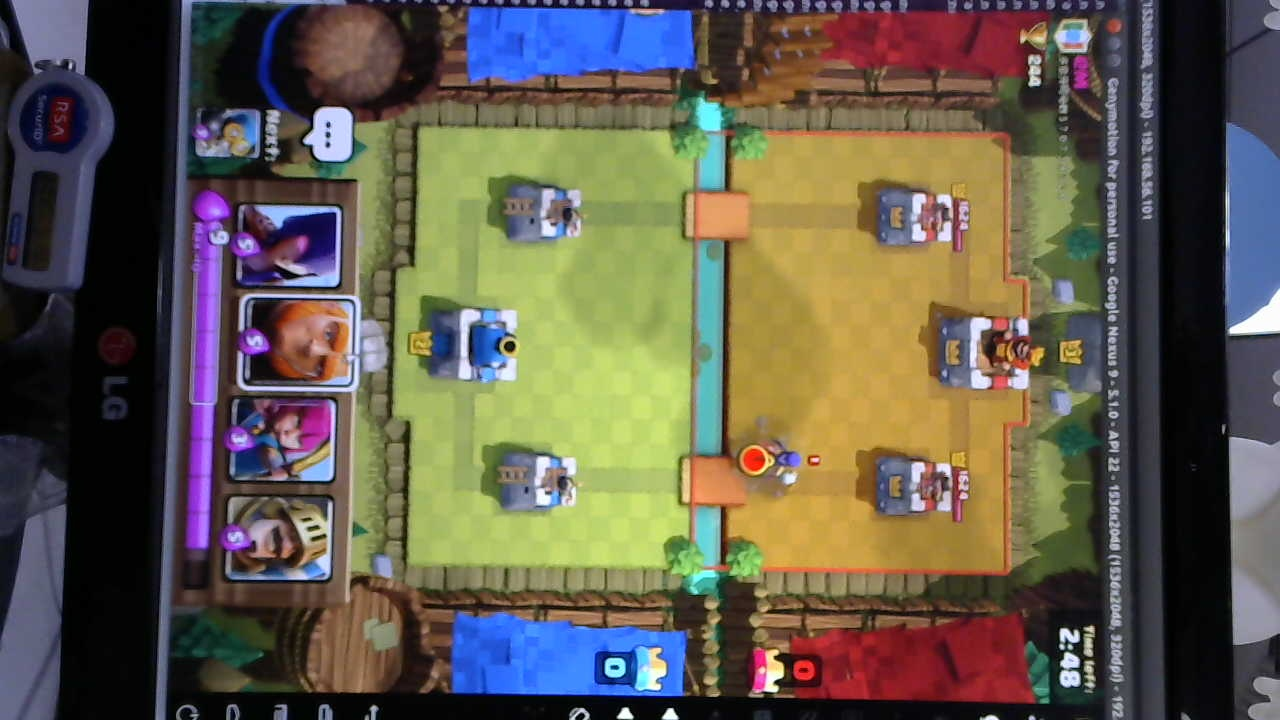witchE: (739, 441, 808, 487)
